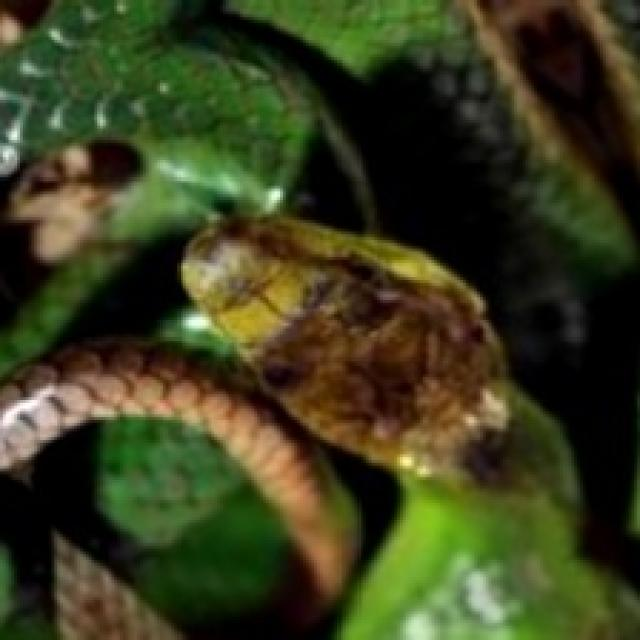red-tailed green ratsnake: (0, 0, 640, 640), (0, 0, 637, 637), (0, 217, 597, 637), (0, 340, 357, 637), (469, 0, 637, 231)
